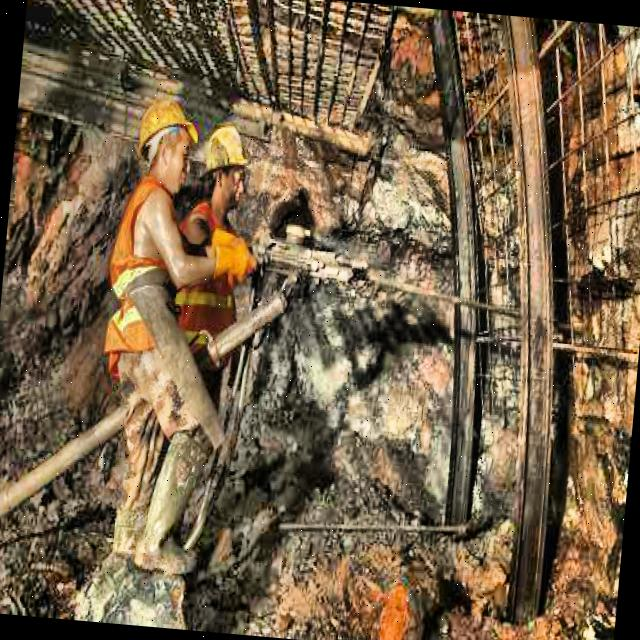helmet: (125, 86, 206, 200), (196, 116, 256, 220)
